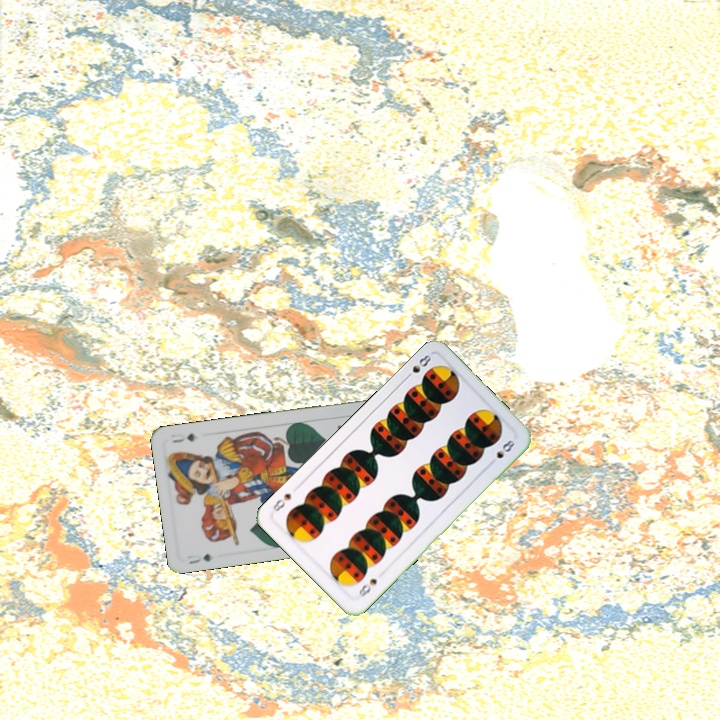GU: (183, 550, 214, 567)
S8: (401, 349, 434, 382), (355, 575, 379, 600)
